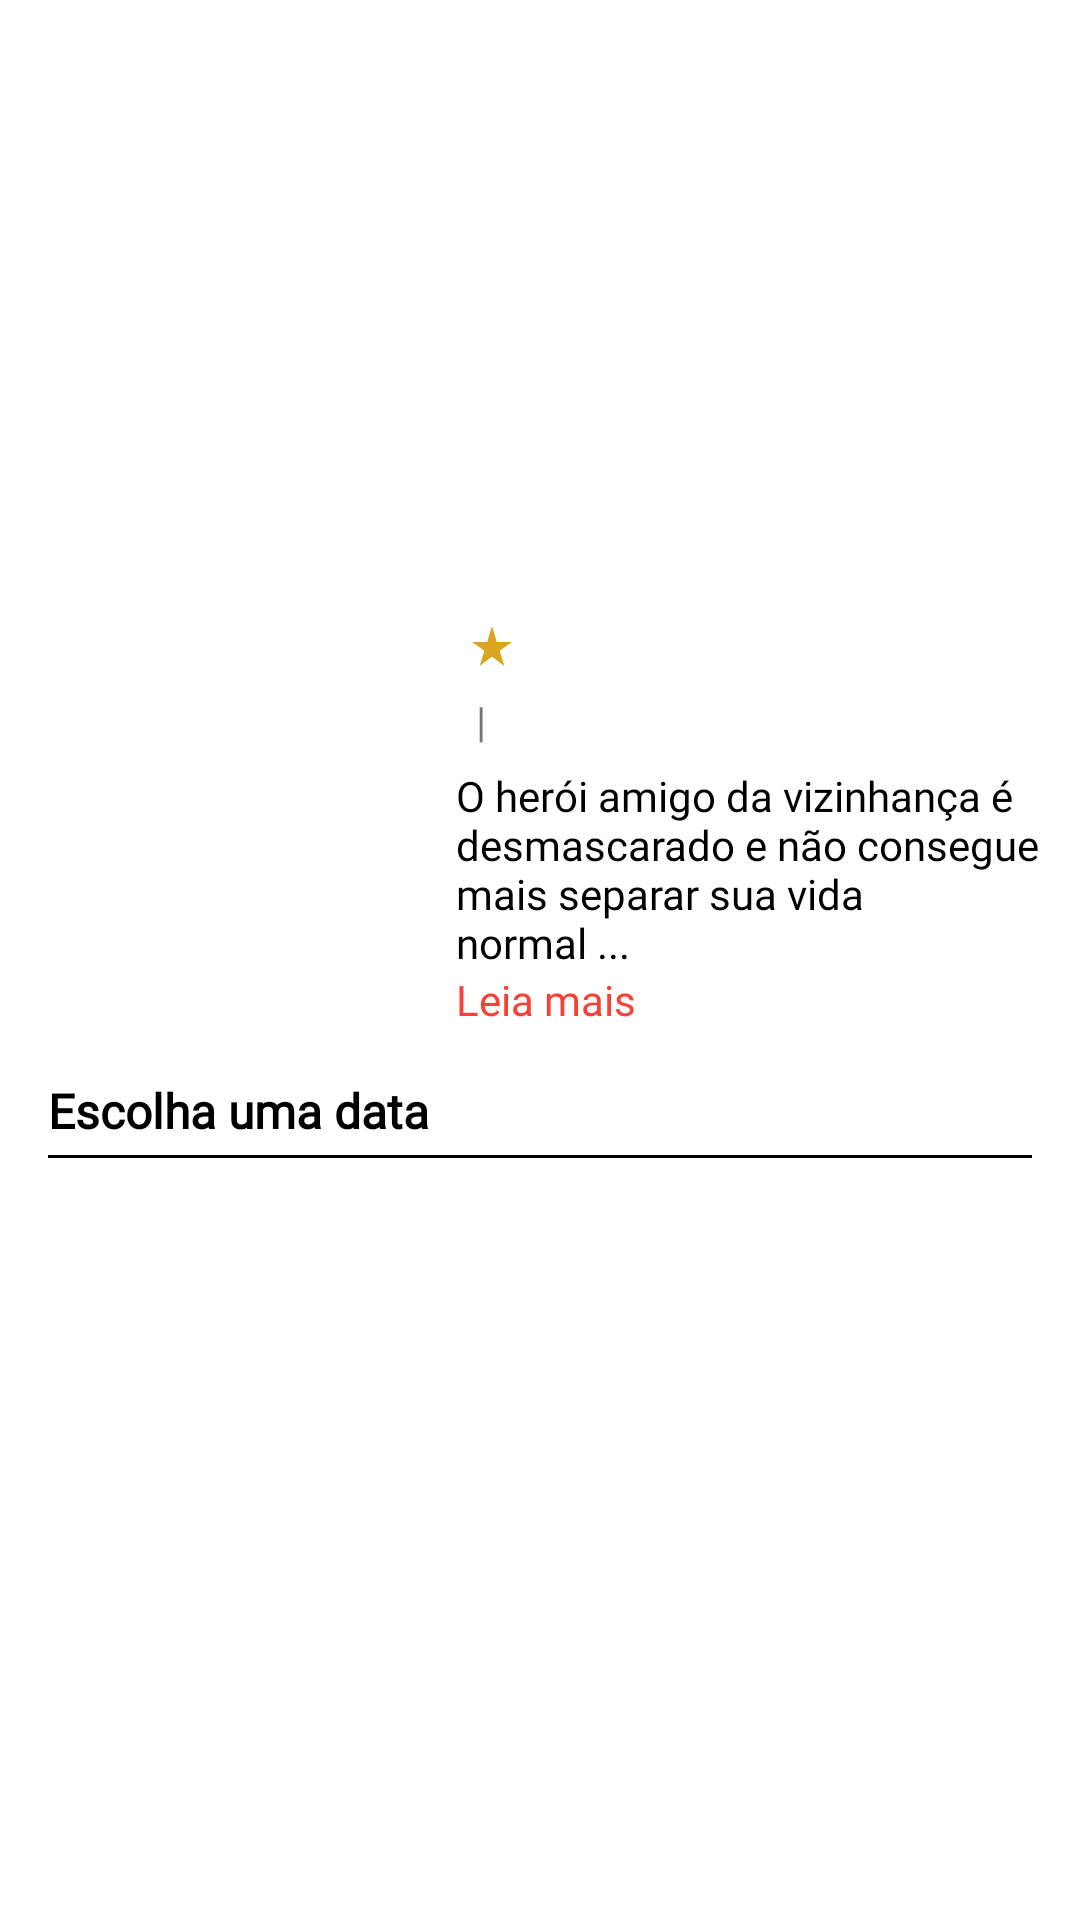

Icons on this 1080×1920 Android screen, each with the point to tap as (x,y):
Icone de classificação do filme: (492,646)
